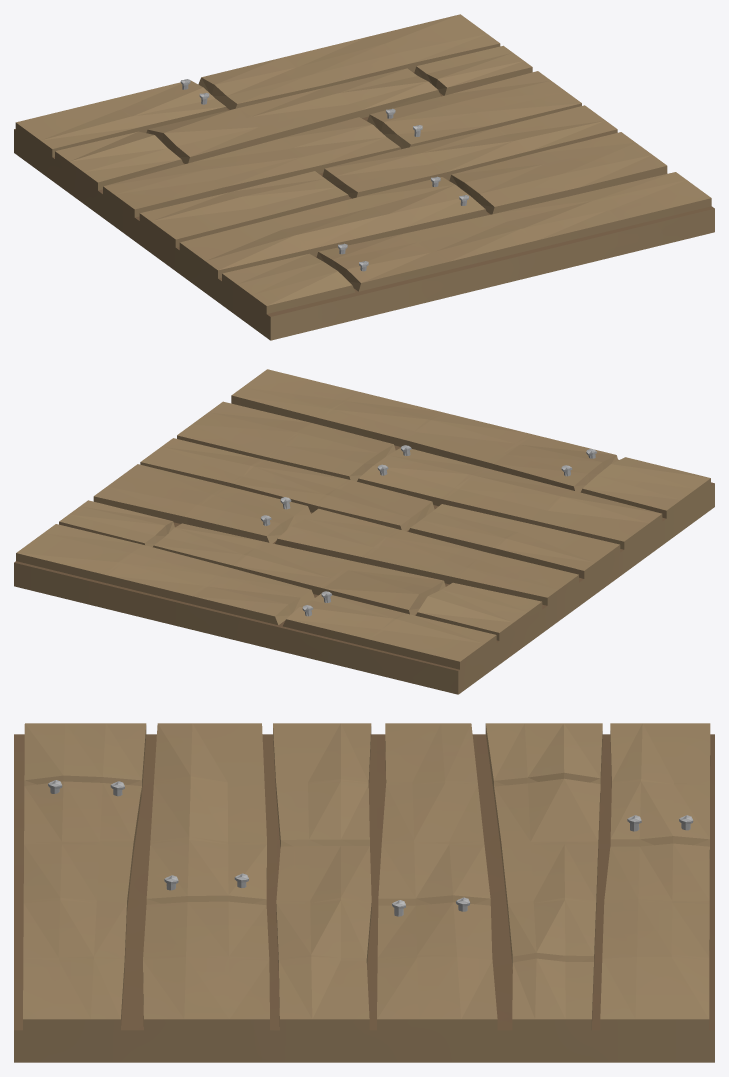
The model's file is floor_wood_2.dae.
The picture shows the model from 3 angles, top to bottom: view 1: azimuth 30°, elevation 25°; view 2: azimuth 150°, elevation 25°; view 3: azimuth 270°, elevation 25°; orthographic projection. The views are drawn at different scales.
Parts seen in each view (by area): view 1: floor_wood_2; view 2: floor_wood_2; view 3: floor_wood_2.
Boxes of the visible parts, x1,y1,x2,y2 form: floor_wood_2: (14,14,714,340); floor_wood_2: (14,369,714,694); floor_wood_2: (14,723,714,1062).
Size of the model in its own units: 2 by 2 by 0.176.
